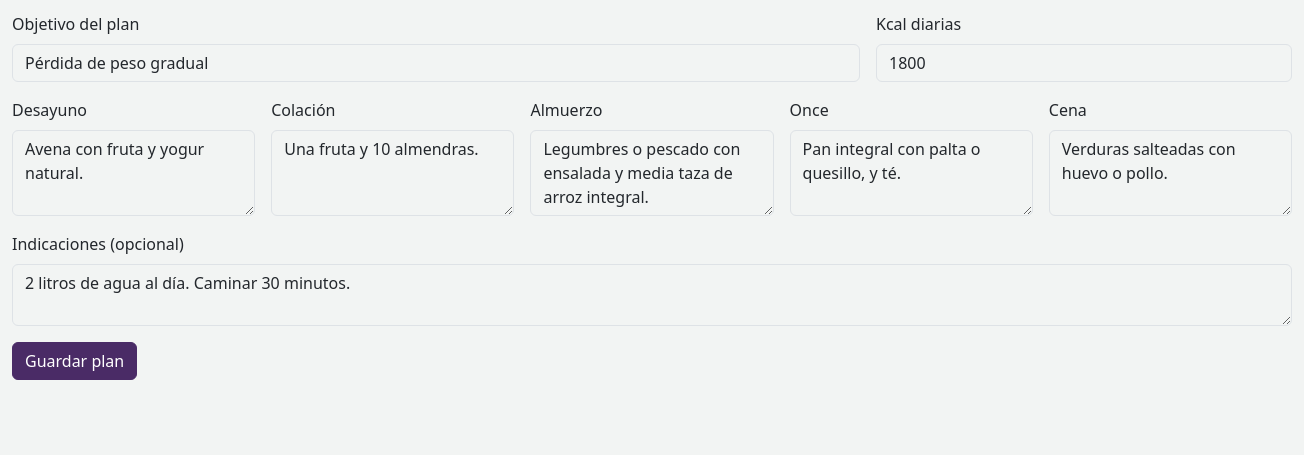
Test: FormPlan › parte del plan vigente y guarda las 5 comidas, las kcal y las indicaciones
Replace the text in the number field labelled "Kcal diarias" with "1700" at (1084,63), box [876,44,1292,82]
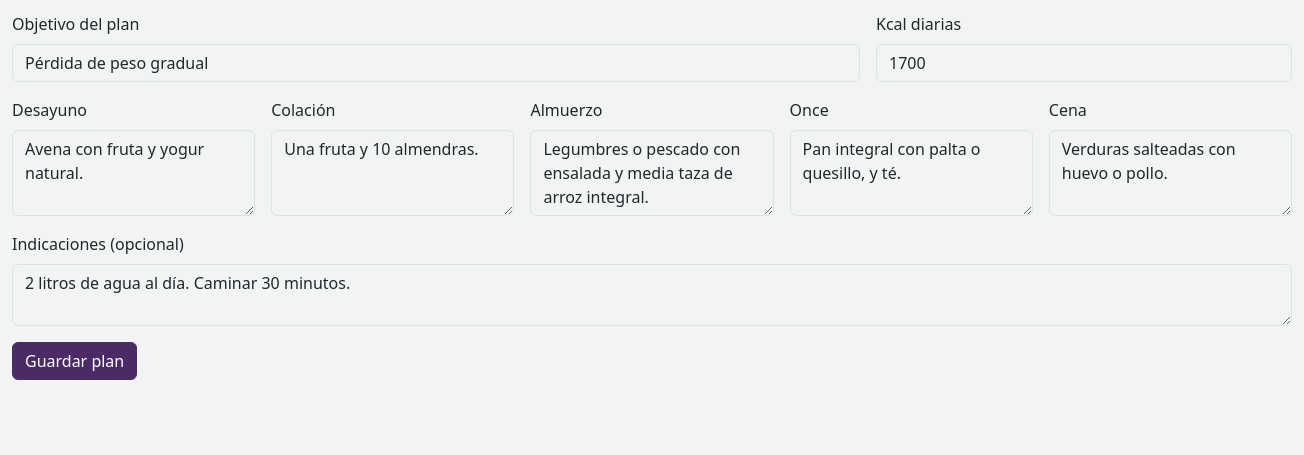
Click the button "Guardar plan" at (75,361), box [12,342,137,380]
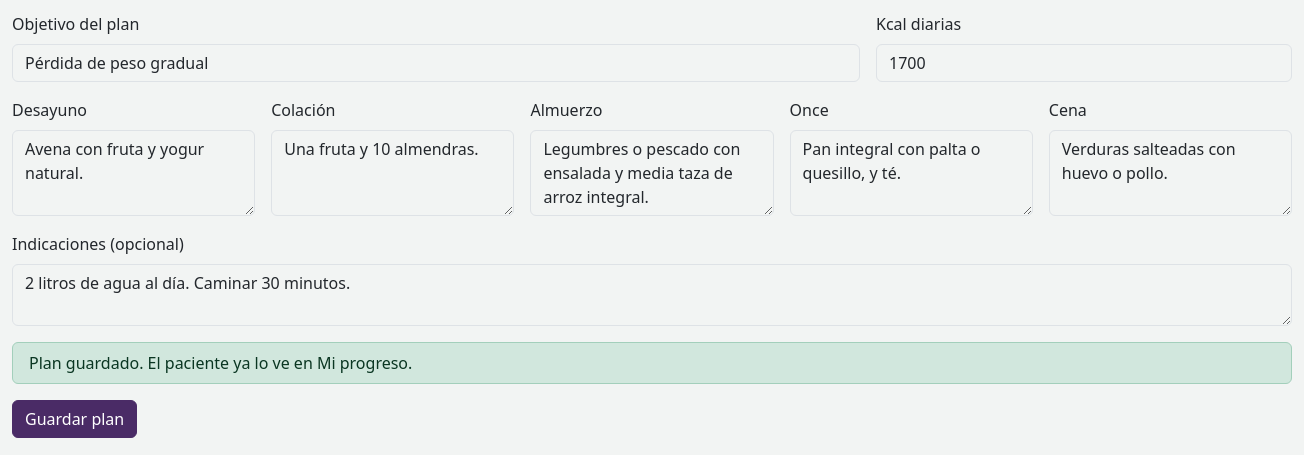
Check: the message shows "Plan guardado.", box [29,352,412,374]
